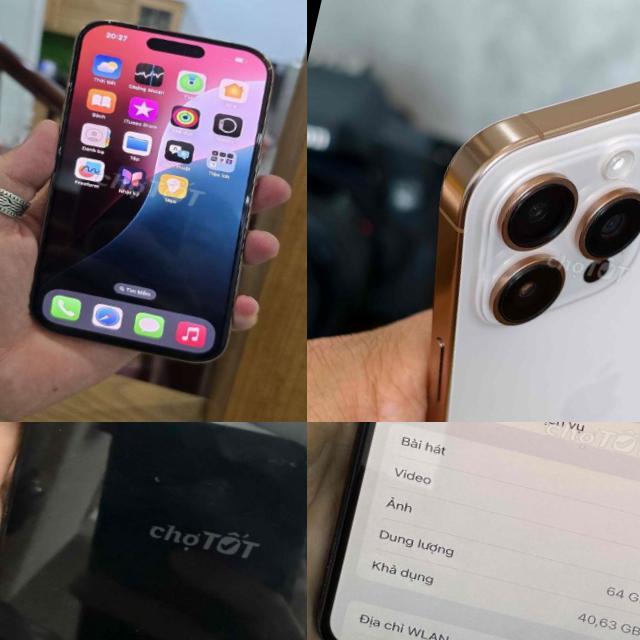gen_11: (318, 422, 640, 640)
gen_14: (0, 422, 307, 640)
gen_16: (351, 0, 640, 422), (1, 3, 305, 392)
scratch: (17, 422, 80, 514), (209, 422, 307, 479), (130, 456, 177, 494)
